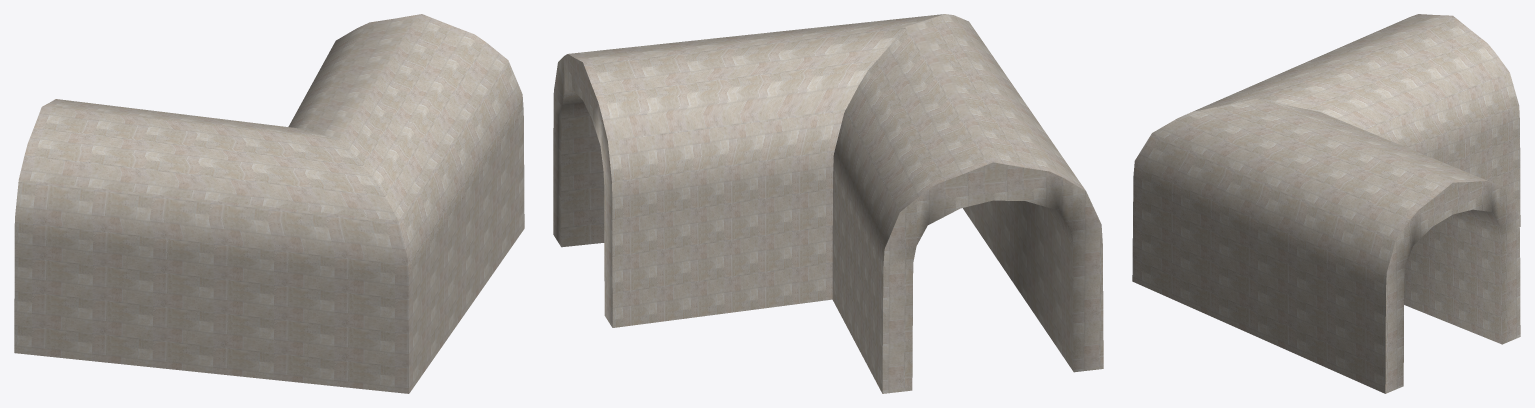
Rendered from tonnel_connector.fbx.
3 renders of one model, left to right at view 1: azimuth 30°, elevation 25°; view 2: azimuth 150°, elevation 25°; view 3: azimuth 270°, elevation 25°, orthographic. The views are drawn at different scales.
Visible parts, largest first — view 1: Cube; view 2: Cube; view 3: Cube.
Boxes of the visible parts, bbox=[...] form: Cube: bbox=[14, 14, 524, 393]; Cube: bbox=[553, 14, 1103, 393]; Cube: bbox=[1132, 14, 1520, 393].
Bounding box in the file's own units: 2326 × 885 × 1702.
